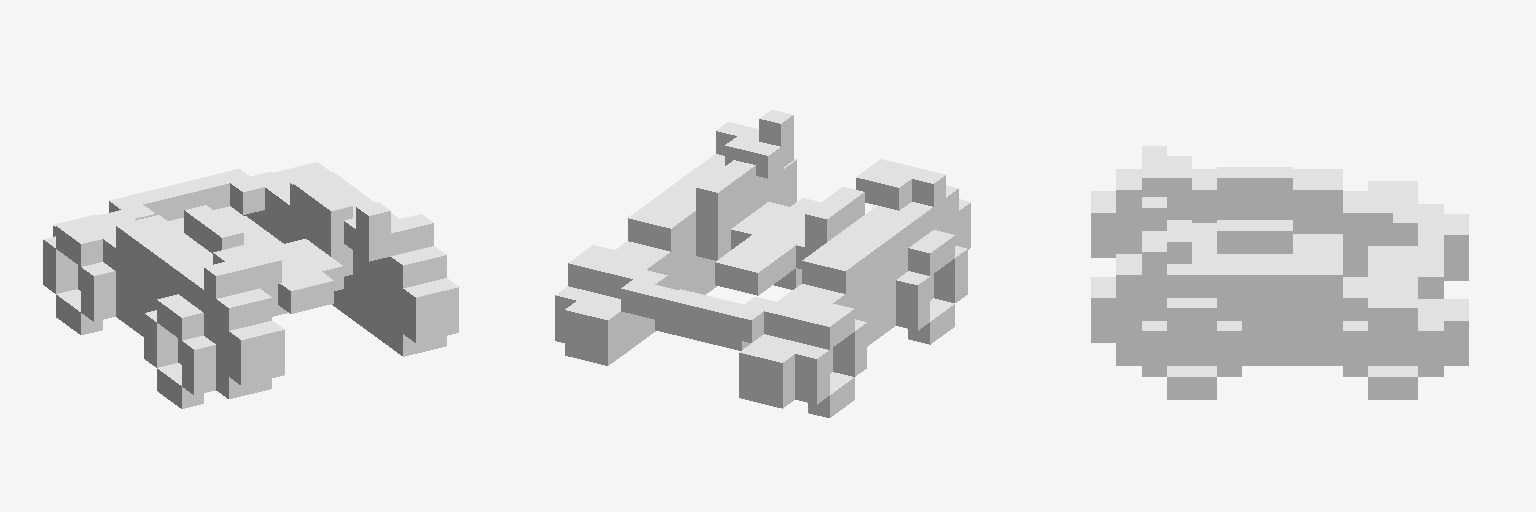
The model's file is Cannon-1.obj.
3 renders of one model, left to right at view 1: azimuth 30°, elevation 25°; view 2: azimuth 150°, elevation 25°; view 3: azimuth 270°, elevation 25°, orthographic.
Parts seen in each view (by area): view 1: object 1; view 2: object 1; view 3: object 1.
Boxes of the visible parts, x1=… form: object 1: x1=43, y1=162, x2=458, y2=408; object 1: x1=555, y1=110, x2=970, y2=417; object 1: x1=1091, y1=146, x2=1468, y2=399.
Size of the model in its own units: 1.2 by 0.7 by 1.5.